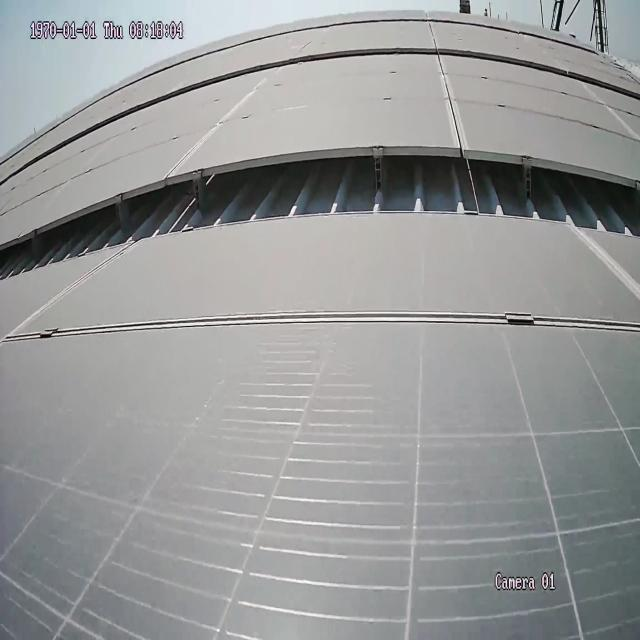interior panel: (1, 241, 637, 344), (431, 59, 469, 145)
outher panel: (0, 150, 640, 279)
